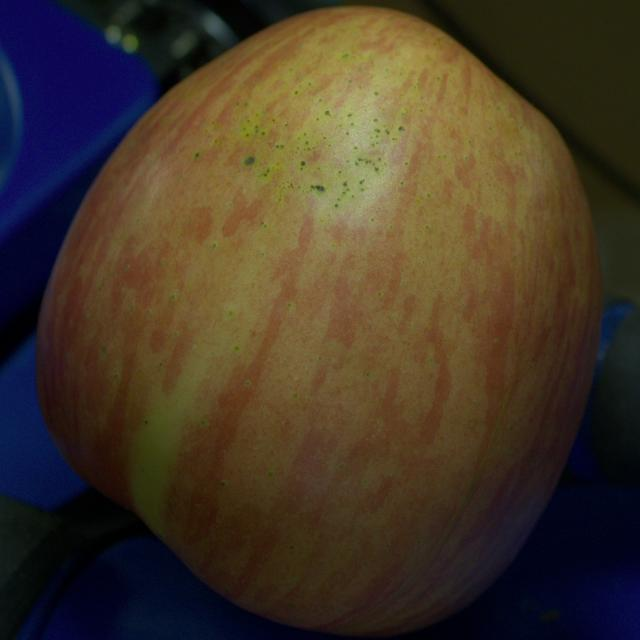apple: (38, 8, 599, 636)
